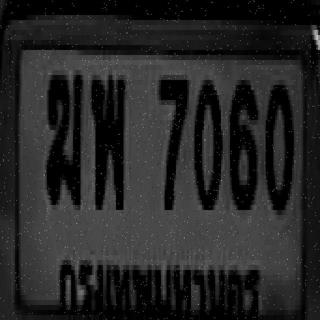A06: (45, 70, 80, 200)
A30: (90, 70, 124, 205)
N00: (264, 80, 292, 210), (193, 75, 221, 205)
N06: (228, 75, 254, 205)
N07: (157, 72, 185, 208)
P04: (57, 244, 270, 320)
